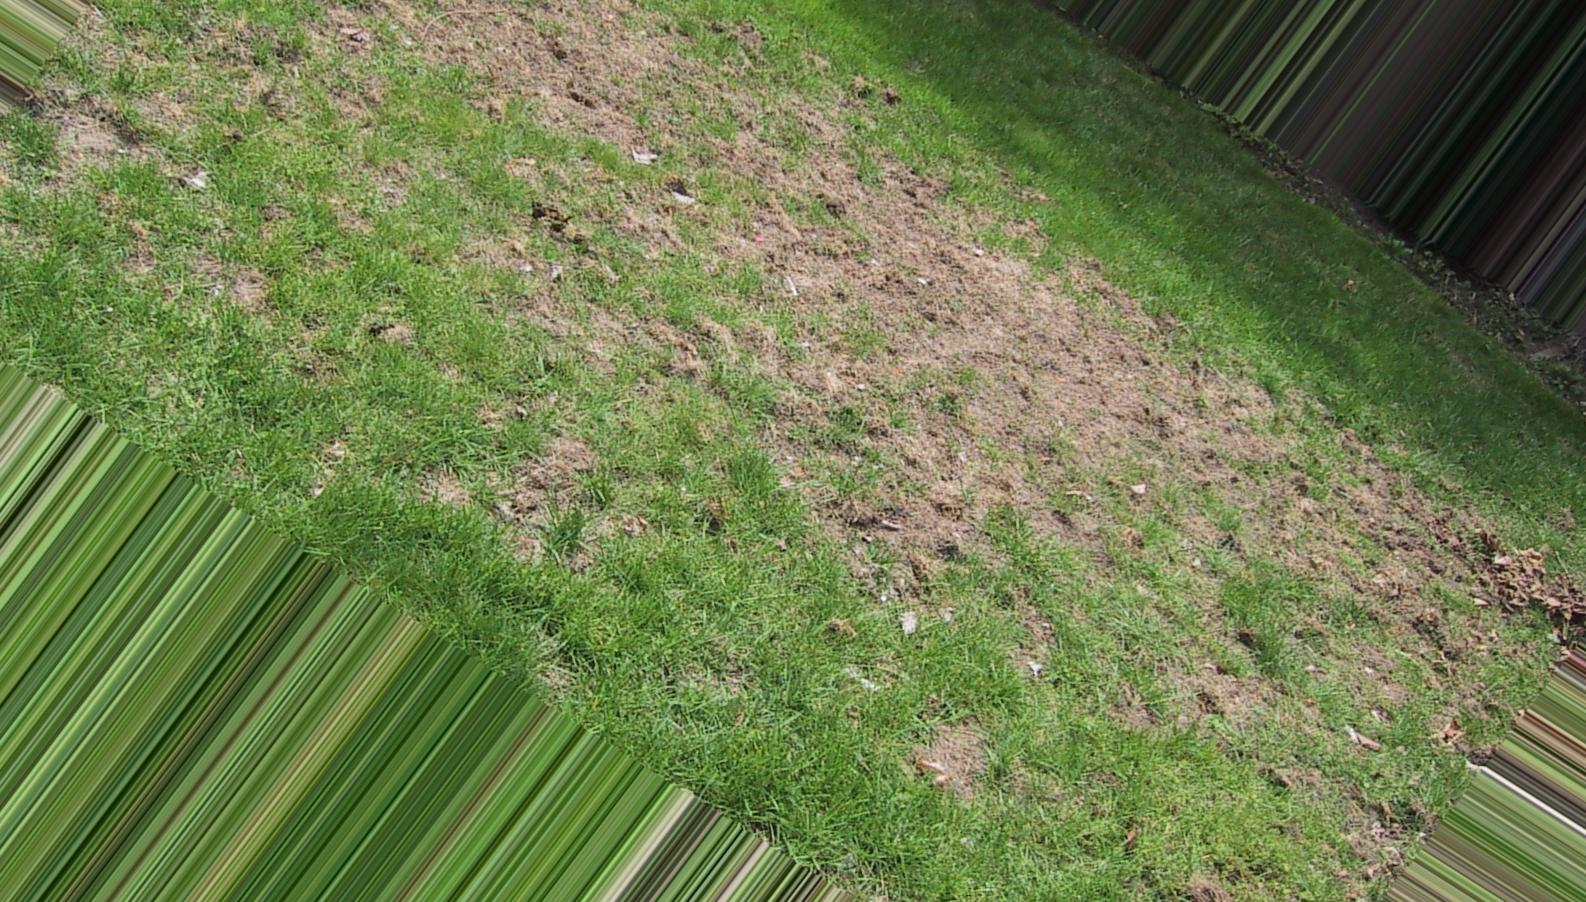patch: (751, 166, 1184, 550), (1201, 463, 1478, 796), (442, 19, 688, 129)
